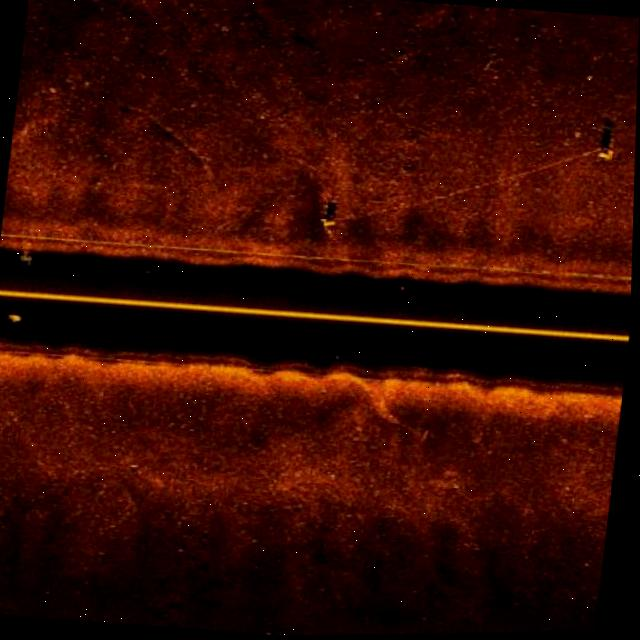mine: (590, 142, 615, 173), (316, 206, 318, 208)
